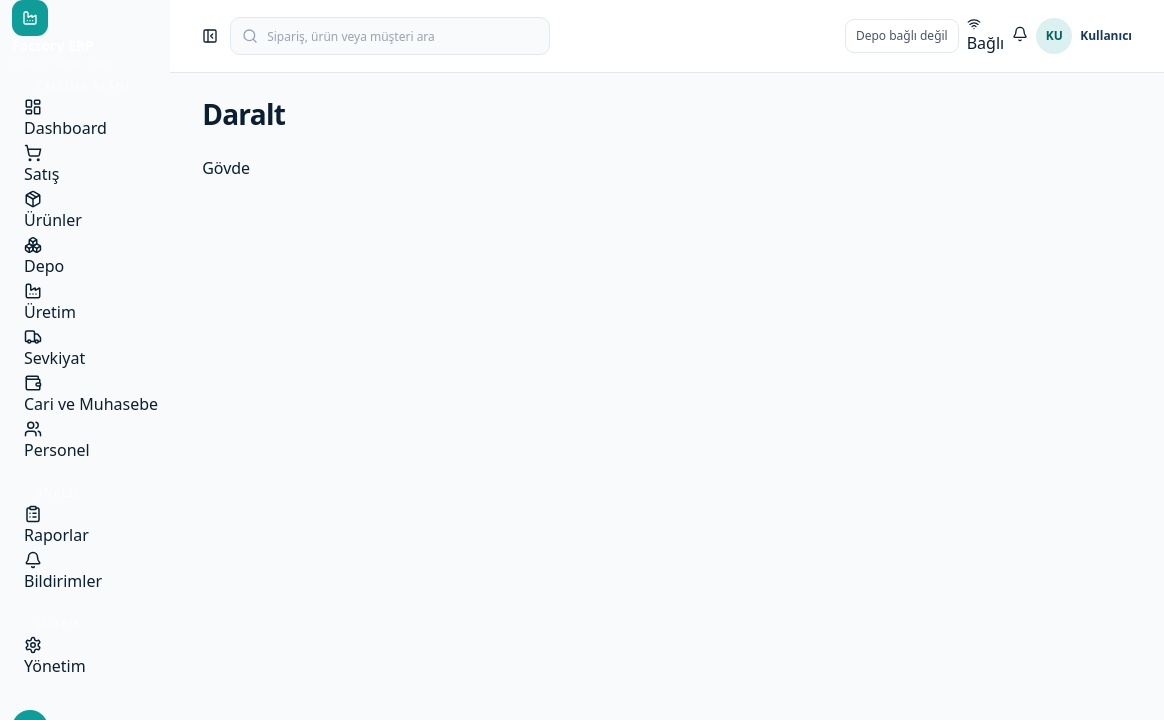
Test: AppShell › collapses the sidebar on desktop
Click the button named "Menüyü daralt".
click(210, 36)  # box left=202, top=28, right=218, bottom=44
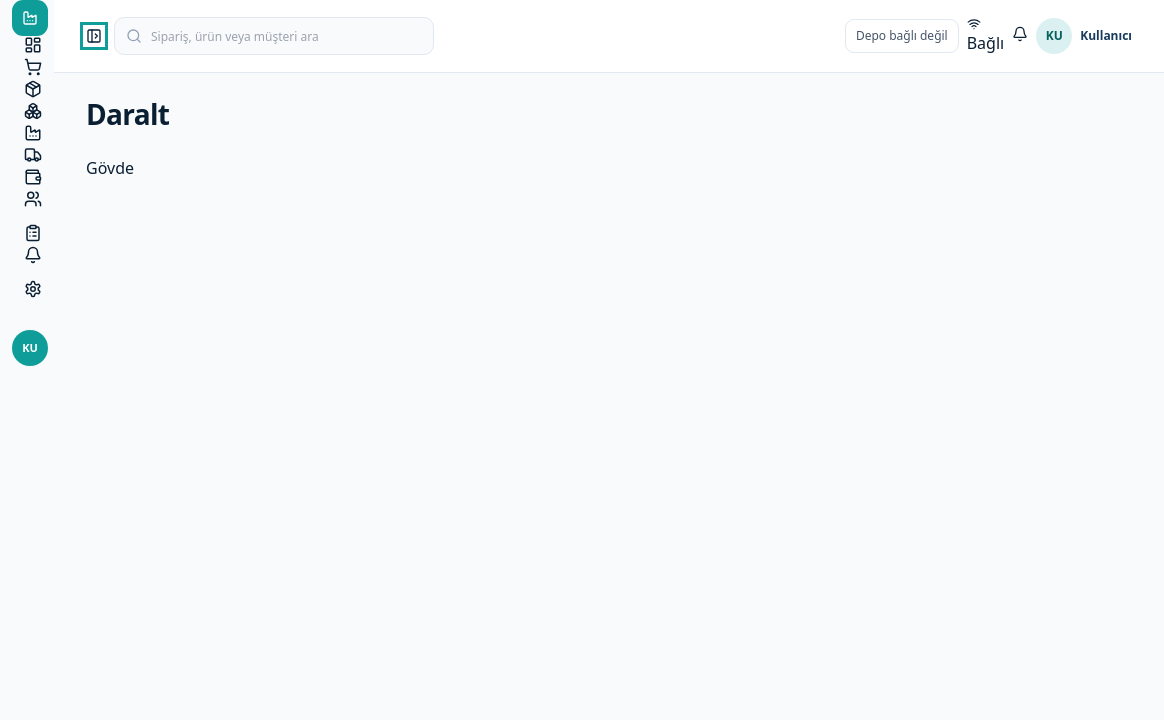
expect the link named "Dashboard" is shown: met, box left=24, top=36, right=42, bottom=54
expect the button named "Menüyü genişlet" is shown: met, box left=86, top=28, right=102, bottom=44
